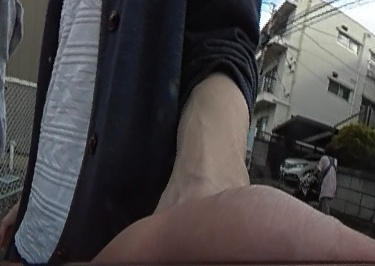person: (312, 138, 342, 213)
